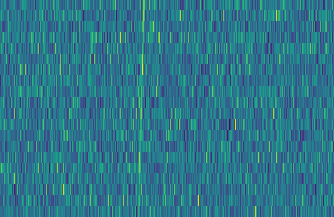signal: (134, 0, 148, 217)
